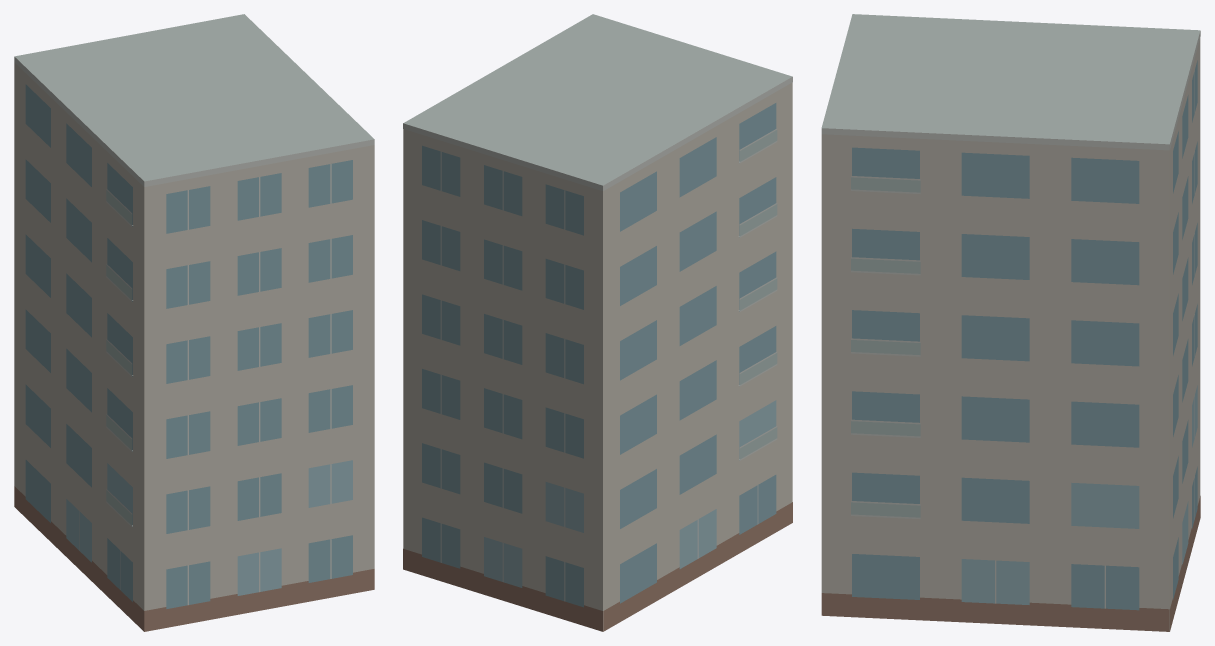
Rendered from survey-upis-32879874.glb.
The picture shows the model from 3 angles, left to right: view 1: azimuth 30°, elevation 25°; view 2: azimuth 150°, elevation 25°; view 3: azimuth 270°, elevation 25°; orthographic projection. The views are drawn at different scales.
Visible parts, largest first — view 1: survey-upis-32879874.tmp; view 2: survey-upis-32879874.tmp; view 3: survey-upis-32879874.tmp.
Part boxes in pixels (bbox=[...]): survey-upis-32879874.tmp: bbox=[14, 14, 374, 631]; survey-upis-32879874.tmp: bbox=[403, 14, 792, 631]; survey-upis-32879874.tmp: bbox=[821, 14, 1200, 631].
Size of the model in its own units: 11.19 by 19.5 by 13.75.
